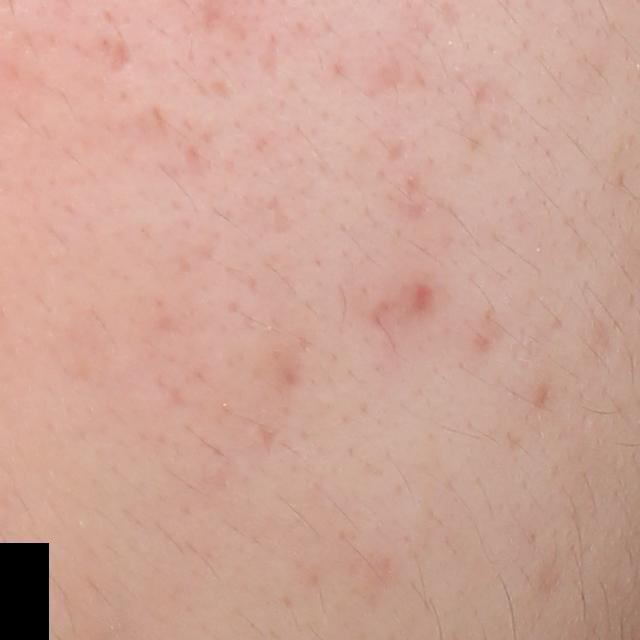atrophic_scar: (106, 30, 134, 74), (259, 34, 281, 80), (385, 139, 413, 163), (410, 284, 432, 313)
